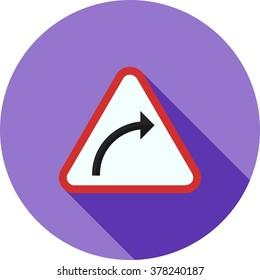Right Hand Curve: (56, 63, 204, 211)
